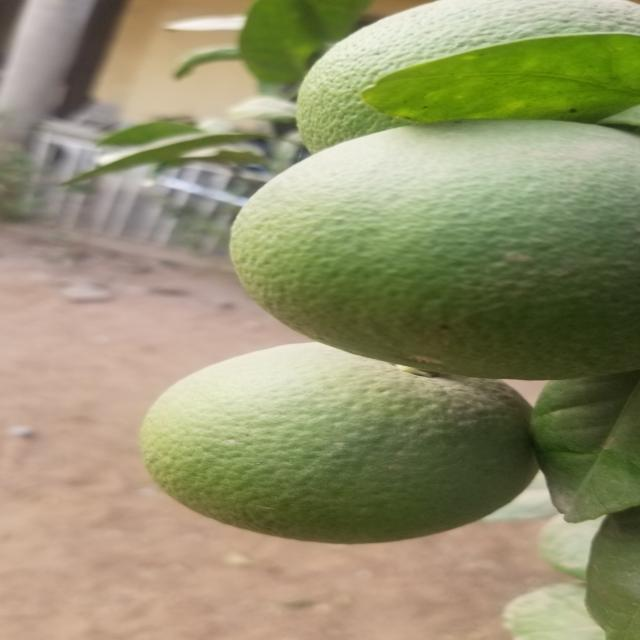Unripe: (245, 124, 640, 382), (137, 342, 532, 544), (307, 2, 640, 149)
